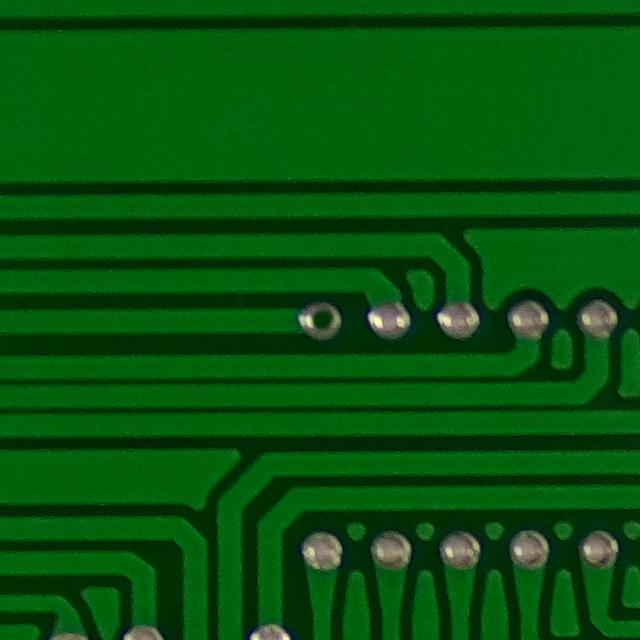missing_hole: (290, 295, 350, 346)
